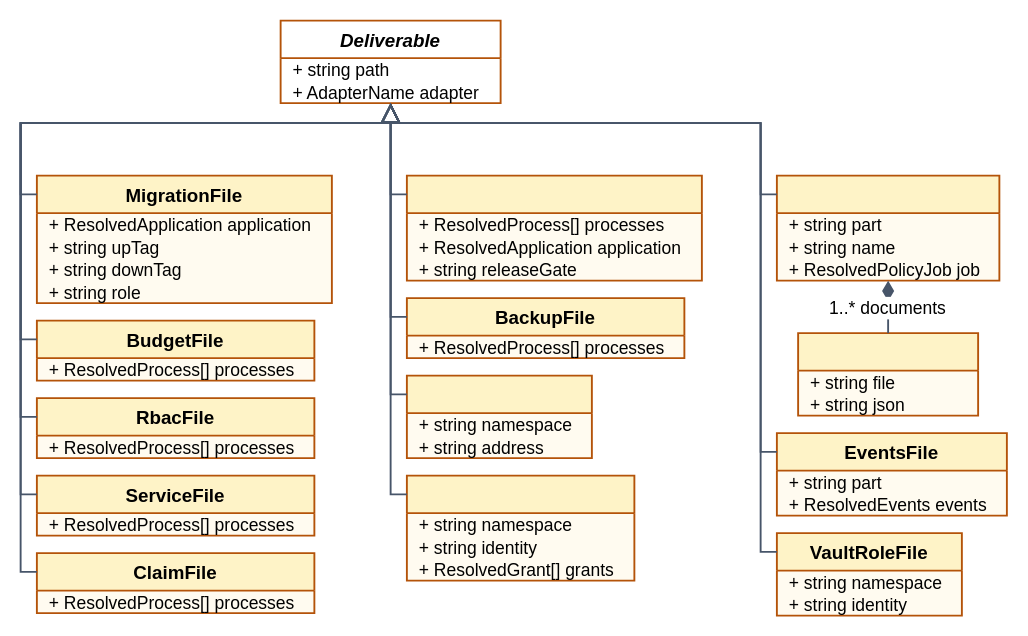
This 1028x636 diagram has some shape labels left out. Here are the shapes that lost their labels. From the top down, the box of each, then its label:
(405, 174, 702, 281): ConfigMapFile
(775, 174, 1000, 281): PolicyJobFile
(797, 332, 978, 416): PolicyDocument
(405, 374, 592, 458): ConnectionFile
(405, 474, 635, 581): VaultPolicyFile
